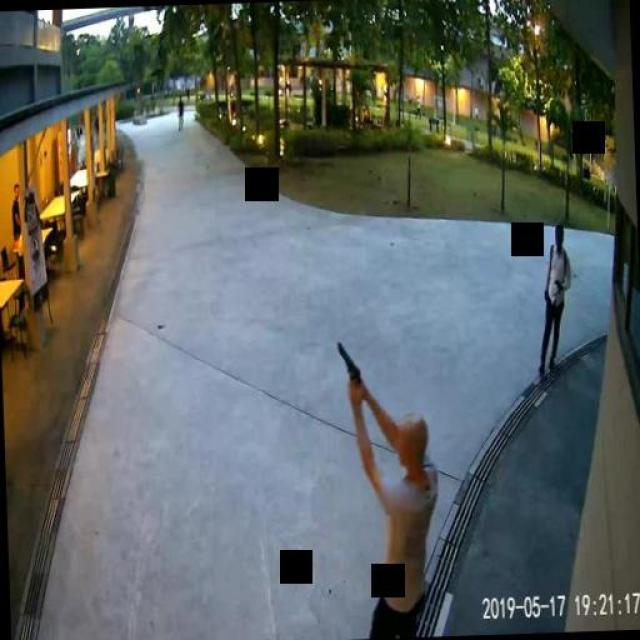gun: (335, 337, 363, 395)
